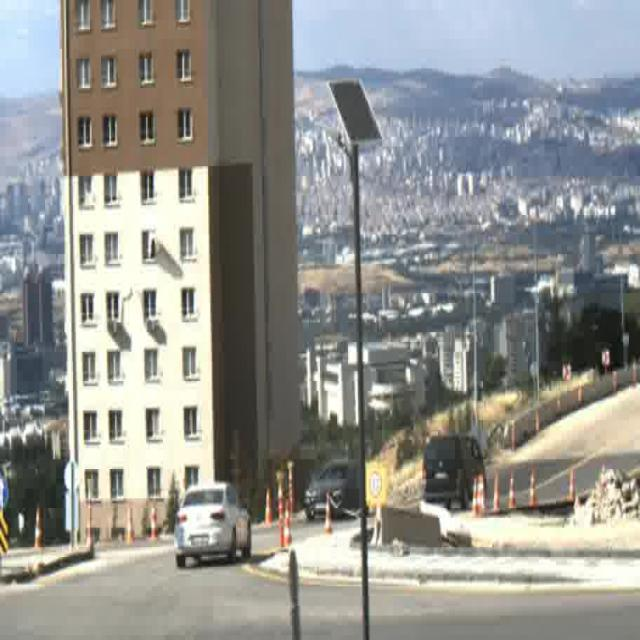Car: (175, 479, 249, 565), (424, 436, 483, 504), (304, 459, 367, 516)
